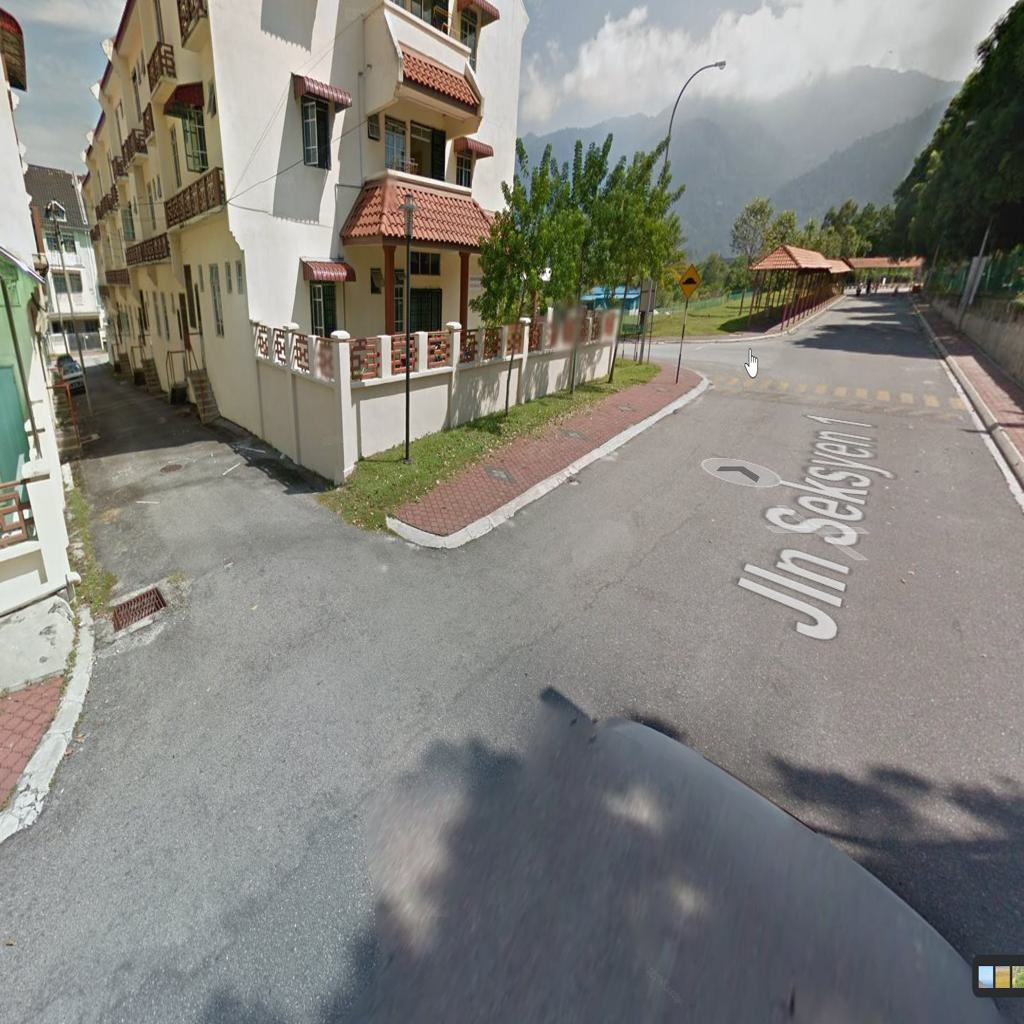Junction: (65, 432, 461, 748), (633, 310, 777, 388)
